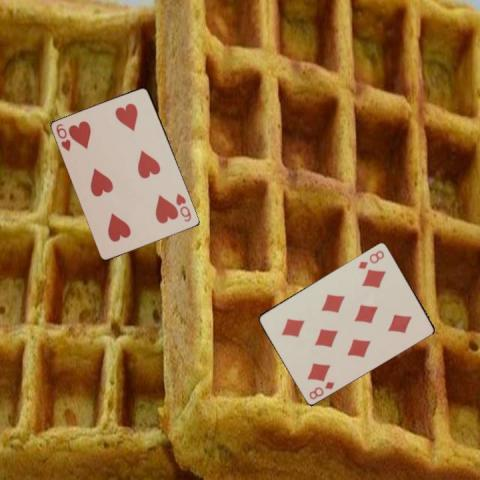6h: (173, 190, 193, 223), (53, 120, 73, 152)
8d: (355, 247, 385, 270), (306, 378, 336, 401)
